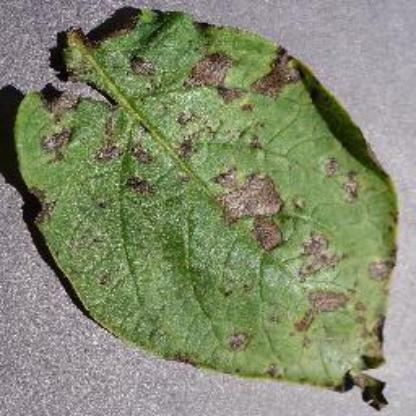Early-Blight: (12, 8, 404, 402)
